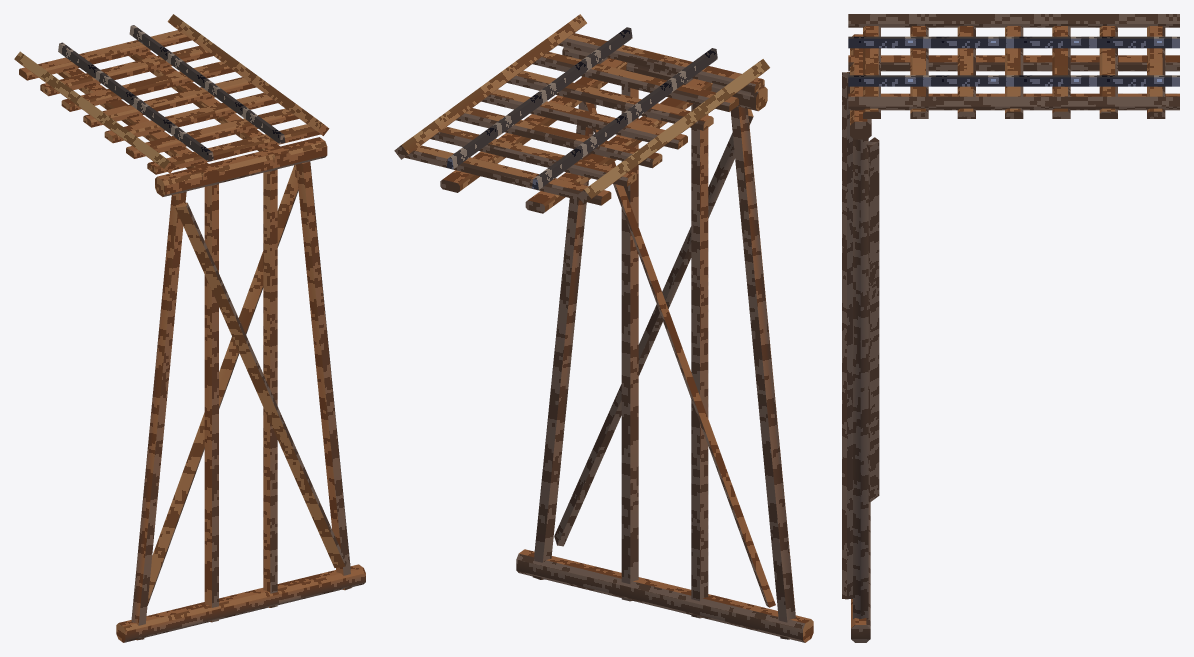
File: wrail.trestle__tall.glb
3 views of the same model, side by side, from view 1: azimuth 30°, elevation 25°; view 2: azimuth 150°, elevation 25°; view 3: azimuth 270°, elevation 25° (orthographic). The views are drawn at different scales.
Parts seen in each view (by area): view 1: kit_bents, kit_ties, kit_braces, kit_sills, kit_rails, kit_guards, kit_caps, kit_stringers; view 2: kit_bents, kit_ties, kit_braces, kit_sills, kit_rails, kit_guards, kit_stringers, kit_caps; view 3: kit_braces, kit_guards, kit_rails, kit_ties, kit_bents, kit_stringers, kit_caps, kit_sills.
Part boxes in pixels (bbox=[...]): kit_bents: bbox=[131, 161, 352, 640]; kit_ties: bbox=[19, 30, 320, 174]; kit_braces: bbox=[147, 165, 346, 605]; kit_sills: bbox=[116, 564, 365, 642]; kit_rails: bbox=[58, 25, 285, 161]; kit_guards: bbox=[14, 14, 329, 173]; kit_caps: bbox=[155, 137, 327, 196]; kit_stringers: bbox=[57, 51, 290, 181]; kit_bents: bbox=[532, 76, 795, 639]; kit_ties: bbox=[405, 33, 764, 205]; kit_braces: bbox=[554, 101, 775, 607]; kit_sills: bbox=[516, 549, 813, 642]; kit_rails: bbox=[446, 27, 717, 189]; kit_guards: bbox=[394, 14, 769, 204]; kit_stringers: bbox=[440, 58, 712, 213]; kit_caps: bbox=[562, 47, 767, 111]; kit_braces: bbox=[842, 72, 879, 599]; kit_guards: bbox=[848, 14, 1179, 110]; kit_rails: bbox=[848, 36, 1179, 86]; kit_ties: bbox=[863, 26, 1165, 118]; kit_bents: bbox=[853, 139, 868, 619]; kit_stringers: bbox=[848, 55, 1179, 96]; kit_caps: bbox=[850, 34, 871, 139]; kit_sills: bbox=[851, 502, 870, 642].
Size of the model in its own units: 3.7 by 6.97 by 4.07.
2 materials, 2 textured.
